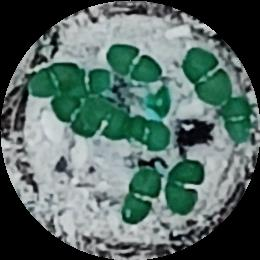Basil: (185, 47, 237, 111), (104, 43, 165, 86), (120, 166, 159, 226), (164, 159, 205, 214), (53, 92, 100, 137), (86, 101, 133, 142), (126, 113, 176, 150), (67, 65, 123, 96), (221, 91, 249, 147), (31, 61, 69, 96)
